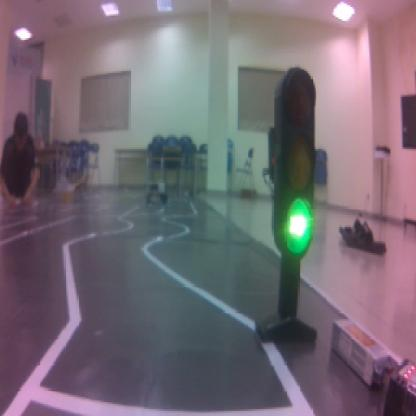bench: (283, 199, 311, 253)
